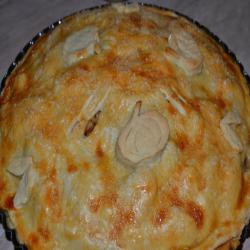omelette: (12, 16, 246, 249)
